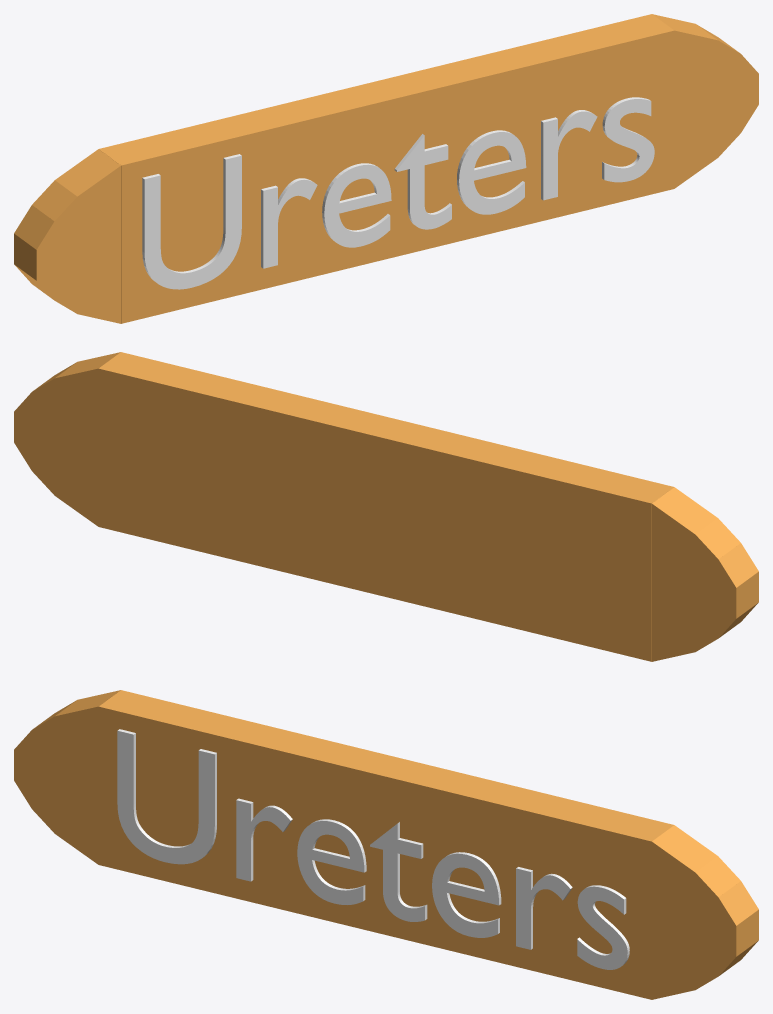
File: txtUreters.fbx
3 views of the same model, one above another, from view 1: azimuth 30°, elevation 25°; view 2: azimuth 150°, elevation 25°; view 3: azimuth 330°, elevation 25° (orthographic).
Parts seen in each view (by area): view 1: TagContainer.114, Text.116; view 2: TagContainer.114; view 3: TagContainer.114, Text.116.
Boxes of the visible parts, x1,y1,x2,y2 form: TagContainer.114: [14, 14, 758, 323]; Text.116: [142, 97, 654, 289]; TagContainer.114: [14, 352, 758, 661]; TagContainer.114: [14, 690, 758, 999]; Text.116: [117, 729, 629, 969].
Size of the model in its own units: 197 by 41.3 by 11.73.
